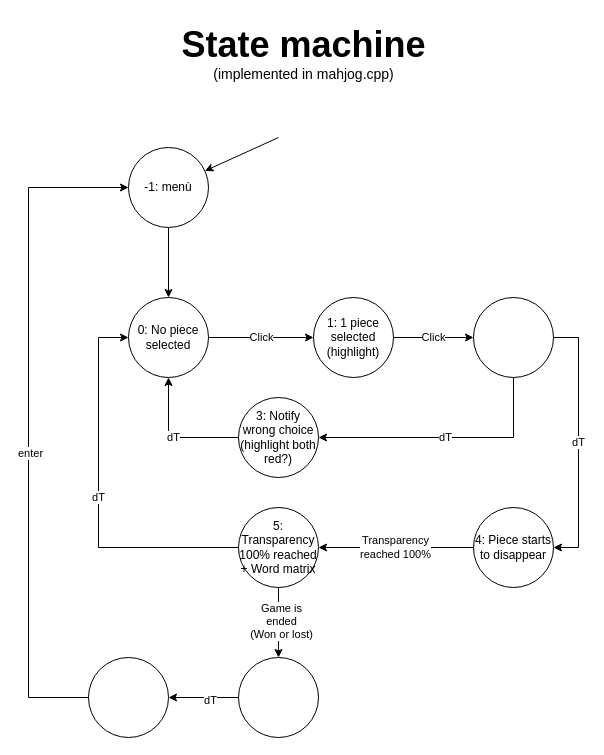
Image size: 604x755. Some labels were removed from this diagram. Here are the shapes that lost their labels. From the top down, the centre of each, then its label:
point 513,337: 2: 2 pieces selected (highlight)
point 128,697: 7: wait for enter key to reset the game
point 278,697: 6: show victory or loss screen
